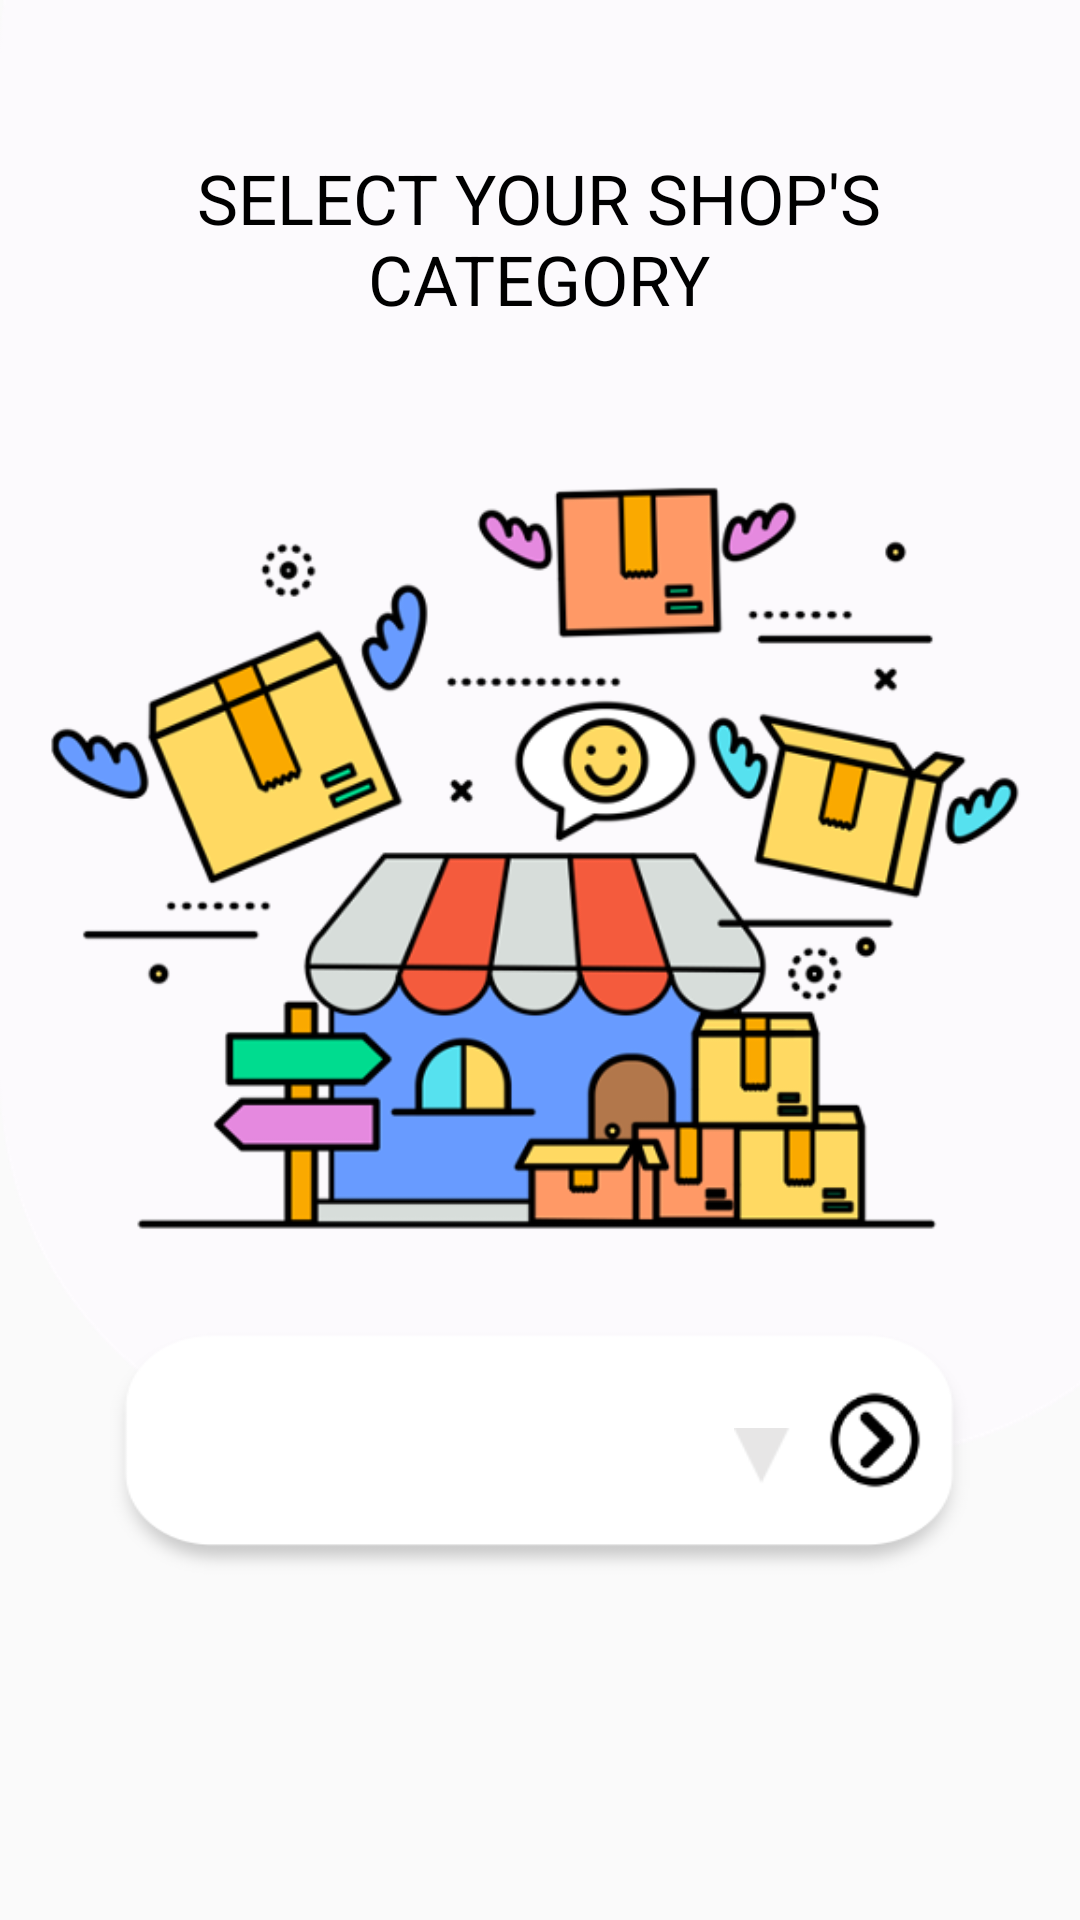

Where to tap for icons on this 1080*1920 app screen, as (x,y):
dropdowntriangle: (761,1453)
forwardbtn: (875,1440)
